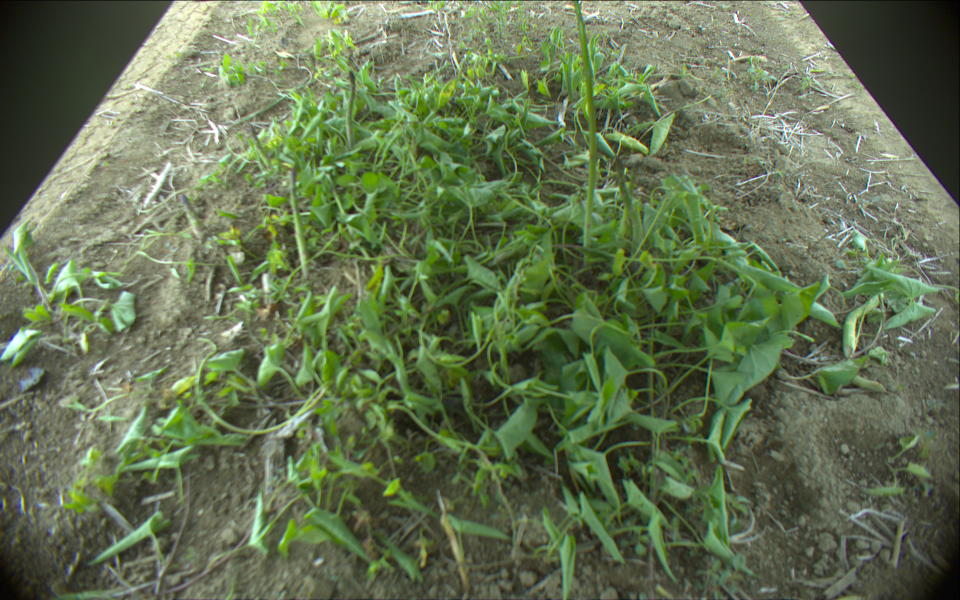aspa: (572, 1, 597, 264), (610, 155, 649, 255), (287, 164, 313, 277), (841, 287, 884, 355), (617, 159, 641, 244), (176, 193, 210, 242), (249, 125, 274, 171), (346, 70, 358, 146)
